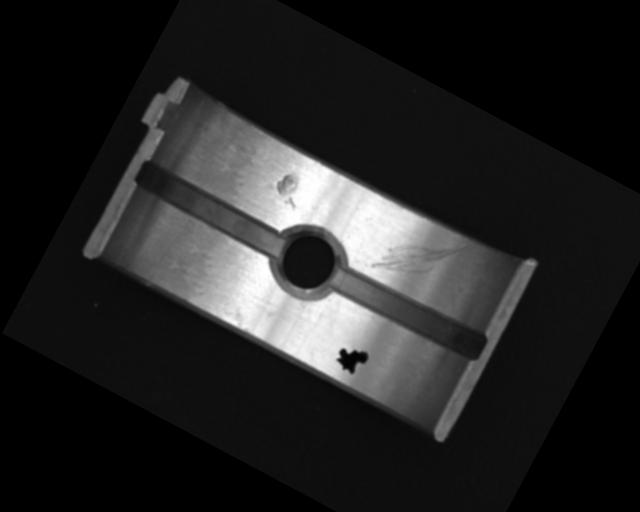blot: (331, 339, 371, 378)
bruise: (268, 170, 308, 211)
gap: (324, 257, 489, 365), (131, 158, 290, 260)
hole: (261, 216, 355, 310)
nick: (370, 209, 468, 302)
